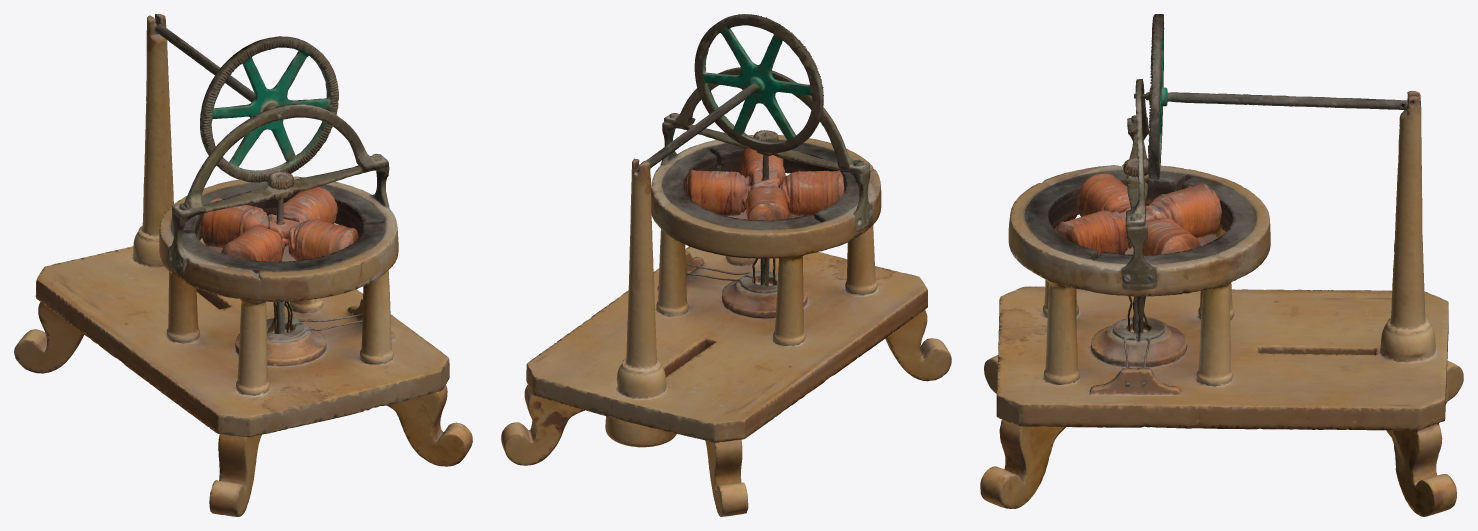
File: desktop.glb
3 views of the same model, side by side, from view 1: azimuth 30°, elevation 25°; view 2: azimuth 150°, elevation 25°; view 3: azimuth 270°, elevation 25° (orthographic). The views are drawn at different scales.
Bounding box in the file's own units: 0.2626 × 0.37 × 0.3778.
1 material, 1 textured.
